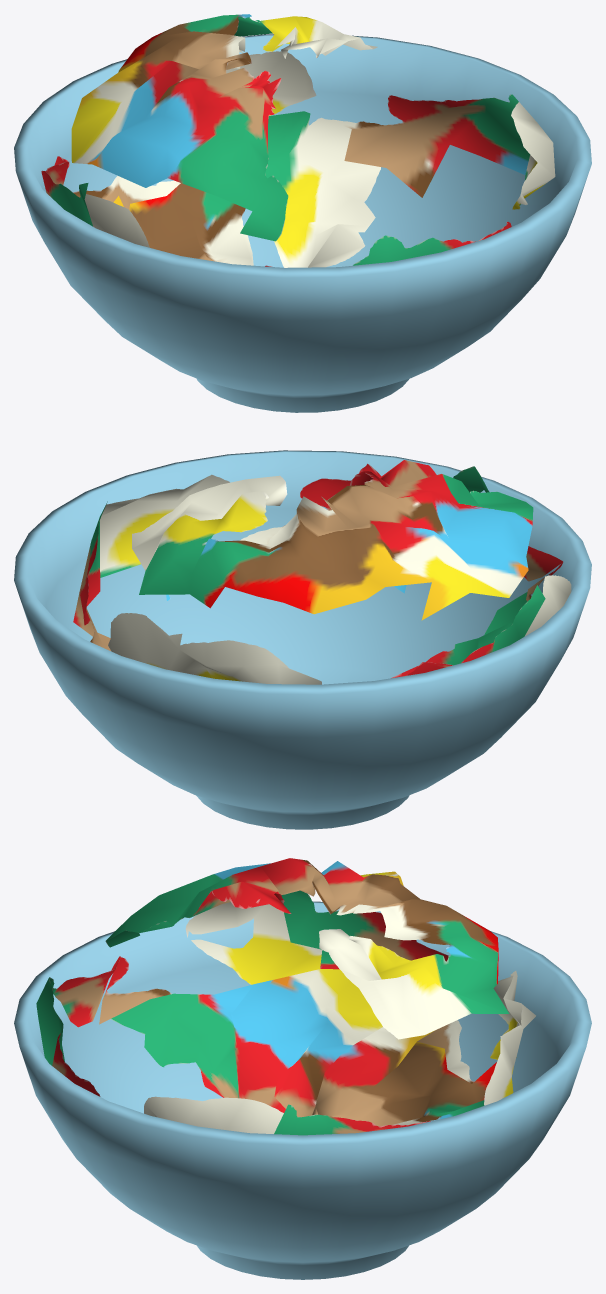
Rendered from Bowl of Jellies.fbx.
The picture shows the model from 3 angles, top to bottom: view 1: azimuth 30°, elevation 25°; view 2: azimuth 150°, elevation 25°; view 3: azimuth 270°, elevation 25°; orthographic projection.
Parts seen in each view (by area): view 1: Bowl of Jellies; view 2: Bowl of Jellies; view 3: Bowl of Jellies.
Boxes of the visible parts, x1,y1,x2,y2 form: Bowl of Jellies: [14, 14, 591, 412]; Bowl of Jellies: [14, 450, 591, 829]; Bowl of Jellies: [14, 858, 591, 1279].
Bounding box in the file's own units: 44.24 × 26.89 × 44.24.
